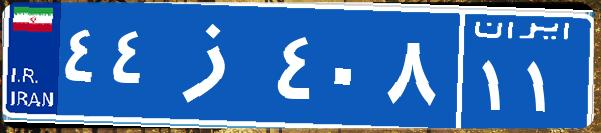0: (330, 28, 385, 110)
1: (475, 38, 525, 113), (525, 38, 570, 115)
4: (273, 28, 330, 110), (57, 26, 110, 107), (110, 28, 158, 105)
8: (385, 28, 445, 110)
ز: (158, 15, 273, 115)
